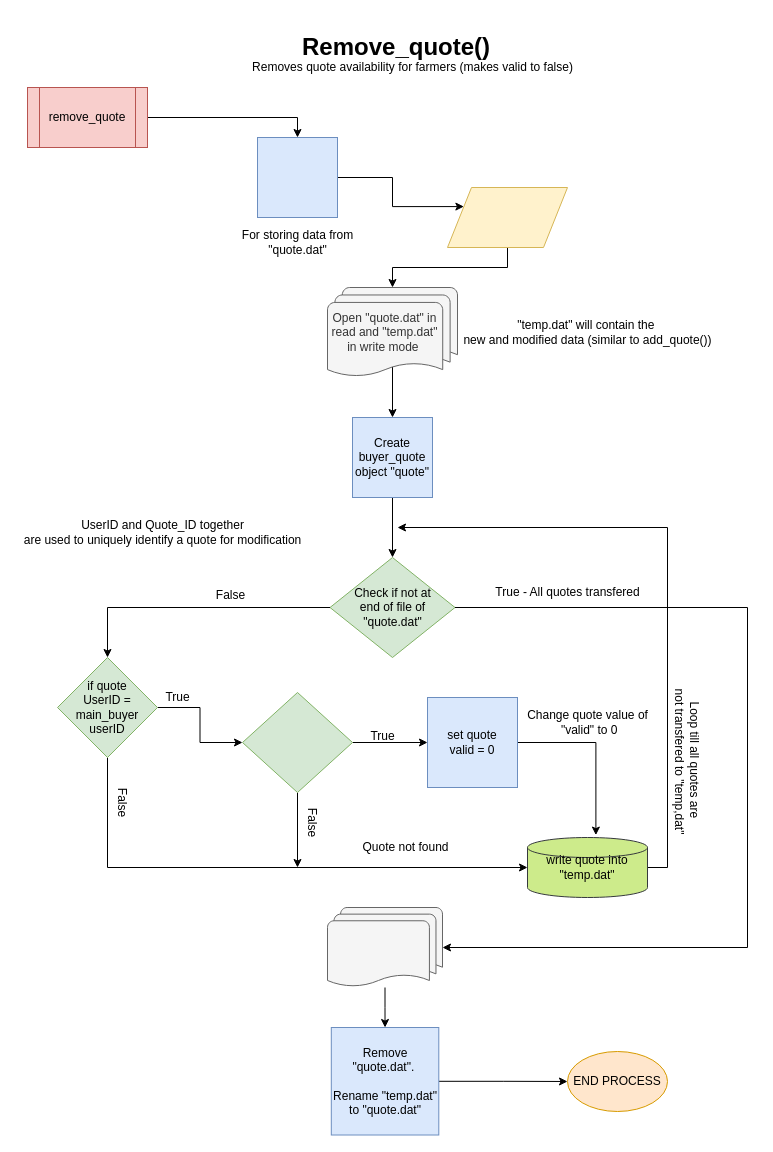
Some shapes in this 773 by 1152 pixel diagram are drawn without their labels. Each missing label, with the box of its shape:
Close "quote.dat", "temp.dat": (326, 906, 442, 988)
create sample buyer_quote object "quote": (256, 136, 338, 218)
if quote ID = quote no. from user: (242, 692, 352, 792)
Request quote_no from user: (446, 186, 568, 248)
